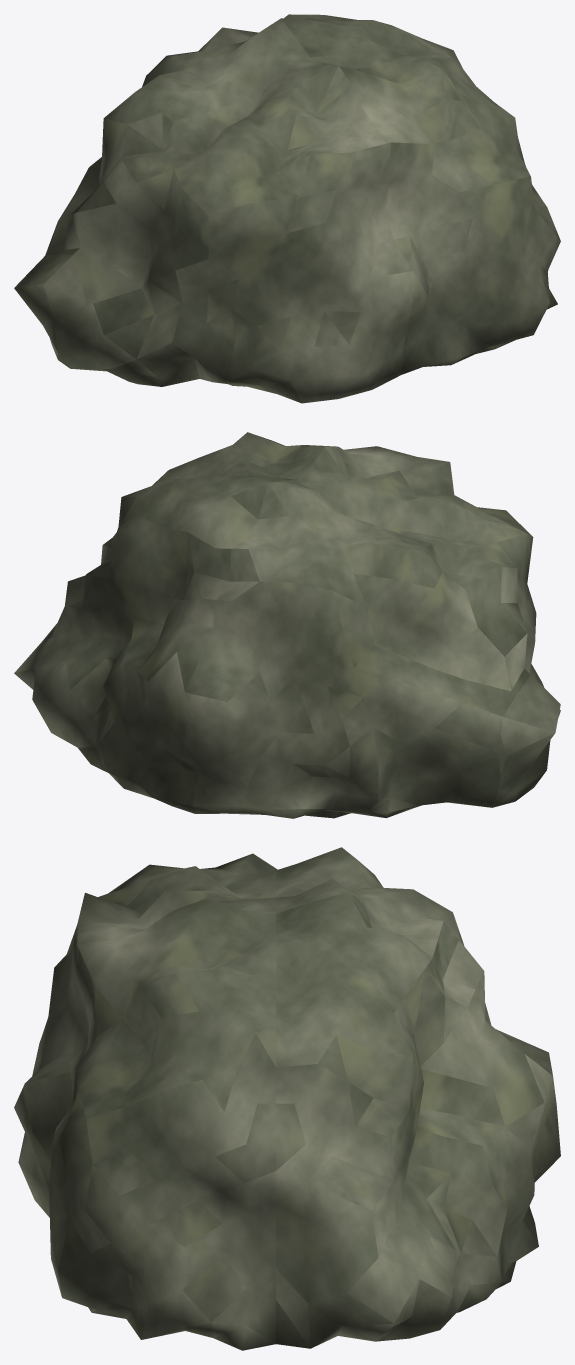
Rendered from Rock_Water_3.gltf.
3 renders of one model, top to bottom at view 1: azimuth 30°, elevation 25°; view 2: azimuth 150°, elevation 25°; view 3: azimuth 270°, elevation 25°, orthographic. The views are drawn at different scales.
Visible parts, largest first — view 1: Rock_Water_3; view 2: Rock_Water_3; view 3: Rock_Water_3.
Boxes of the visible parts, x1,y1,x2,y2 form: Rock_Water_3: (14, 14, 560, 403); Rock_Water_3: (14, 432, 560, 818); Rock_Water_3: (14, 847, 560, 1350).
Bounding box in the file's own units: 4.2 × 2.28 × 3.14.
Materials: 1 (1 with a texture image).
